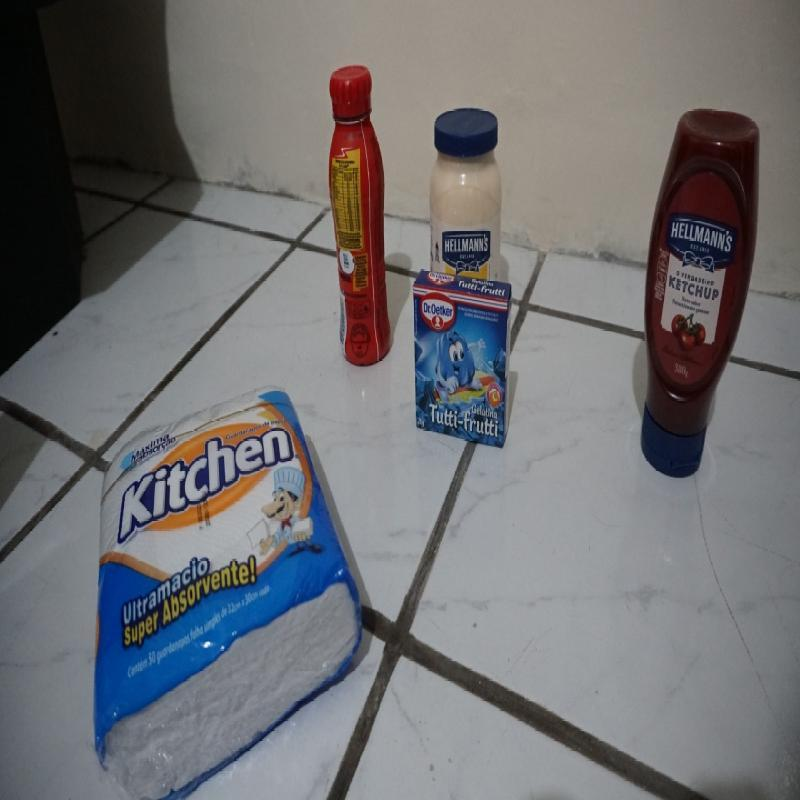Chocolate Milk: (326, 61, 396, 366)
Gelatine: (409, 266, 511, 447)
Ketchup: (637, 106, 765, 478)
Mayonnaise: (428, 105, 501, 276)
Napkin: (86, 381, 369, 800)
